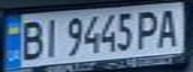4: (81, 12, 103, 55), (100, 11, 121, 54)
5: (115, 9, 139, 52)
9: (60, 14, 84, 57)
A: (154, 6, 184, 48)
B: (15, 17, 45, 61)
I: (39, 16, 63, 60)
P: (133, 7, 163, 51)
